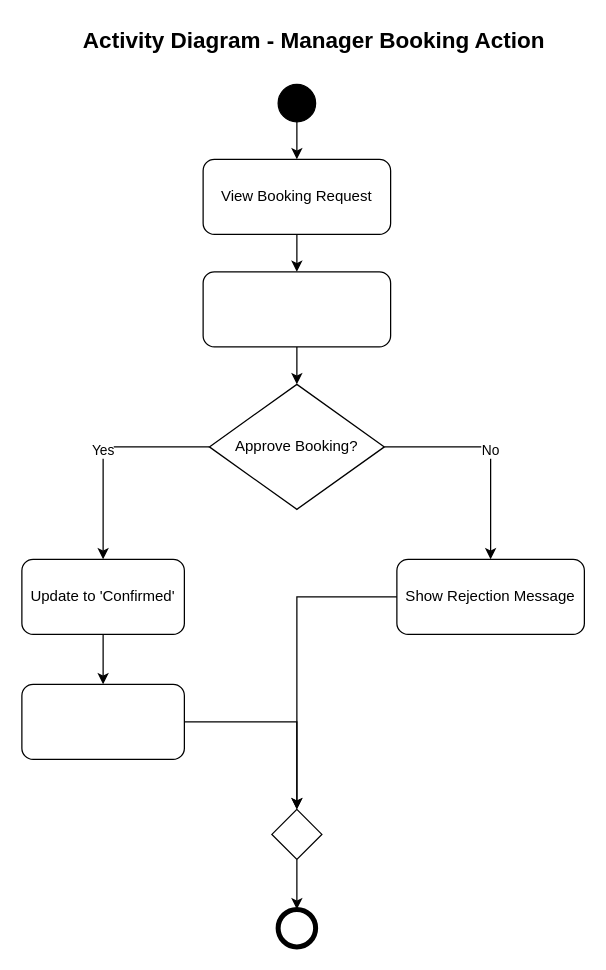
Some shapes in this 606 by 970 pixel diagram are drawn without their labels. The shapes that lost their labels are listed below. From the top down, each one's box as (x1, y1, x2, y2) in pixels, then its label:
(202, 271, 391, 347): Review Customer Details
(21, 683, 184, 759): Send Confirmation Notification
